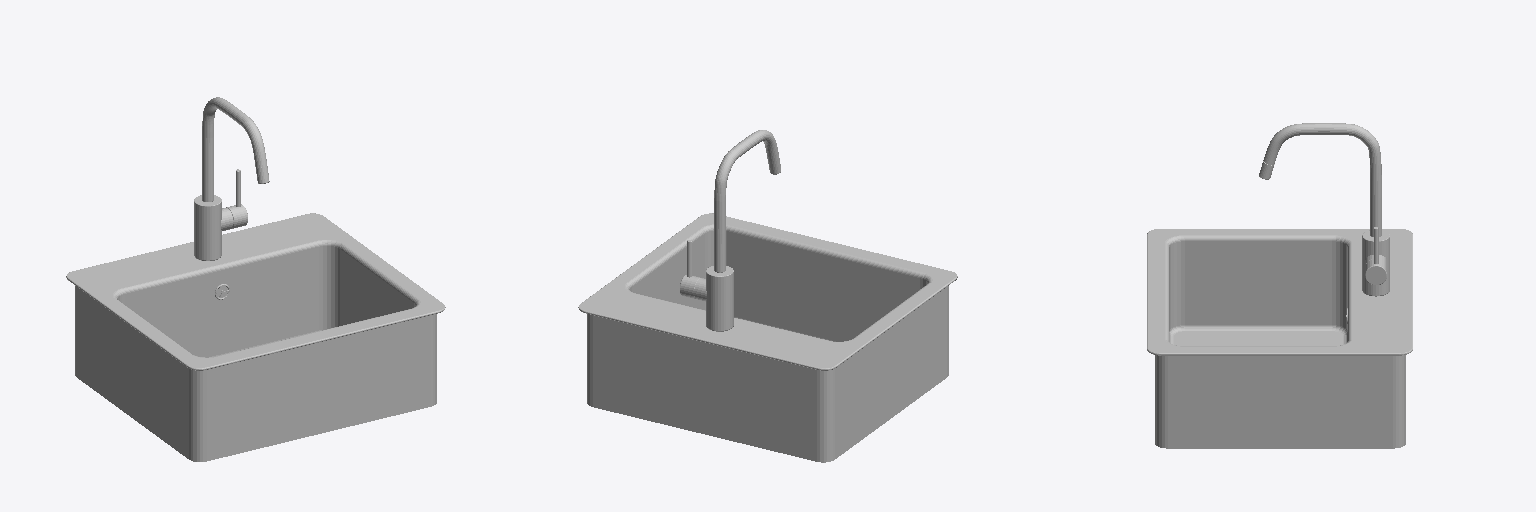
The model's file is kitchen sink.obj.
3 views of the same model, side by side, from view 1: azimuth 30°, elevation 25°; view 2: azimuth 150°, elevation 25°; view 3: azimuth 270°, elevation 25° (orthographic).
Visible parts, largest first — view 1: kitchen sink; view 2: kitchen sink; view 3: kitchen sink.
Part boxes in pixels (x1,y1,x2,y2): kitchen sink: (66,97,445,461); kitchen sink: (578,130,957,462); kitchen sink: (1147,123,1412,448).
Bounding box in the file's own units: 224 × 222 × 202.